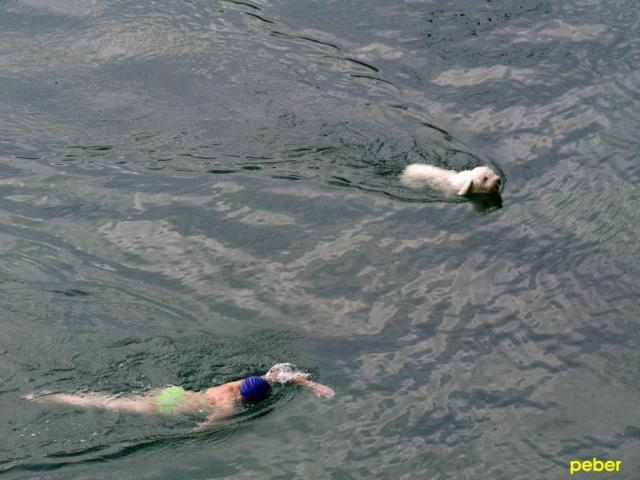swimmer: (45, 362, 334, 438)
